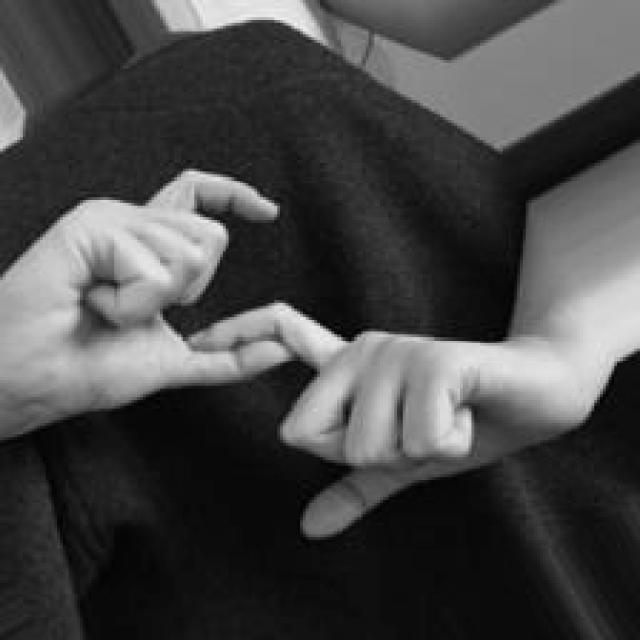S: (5, 154, 603, 547)
